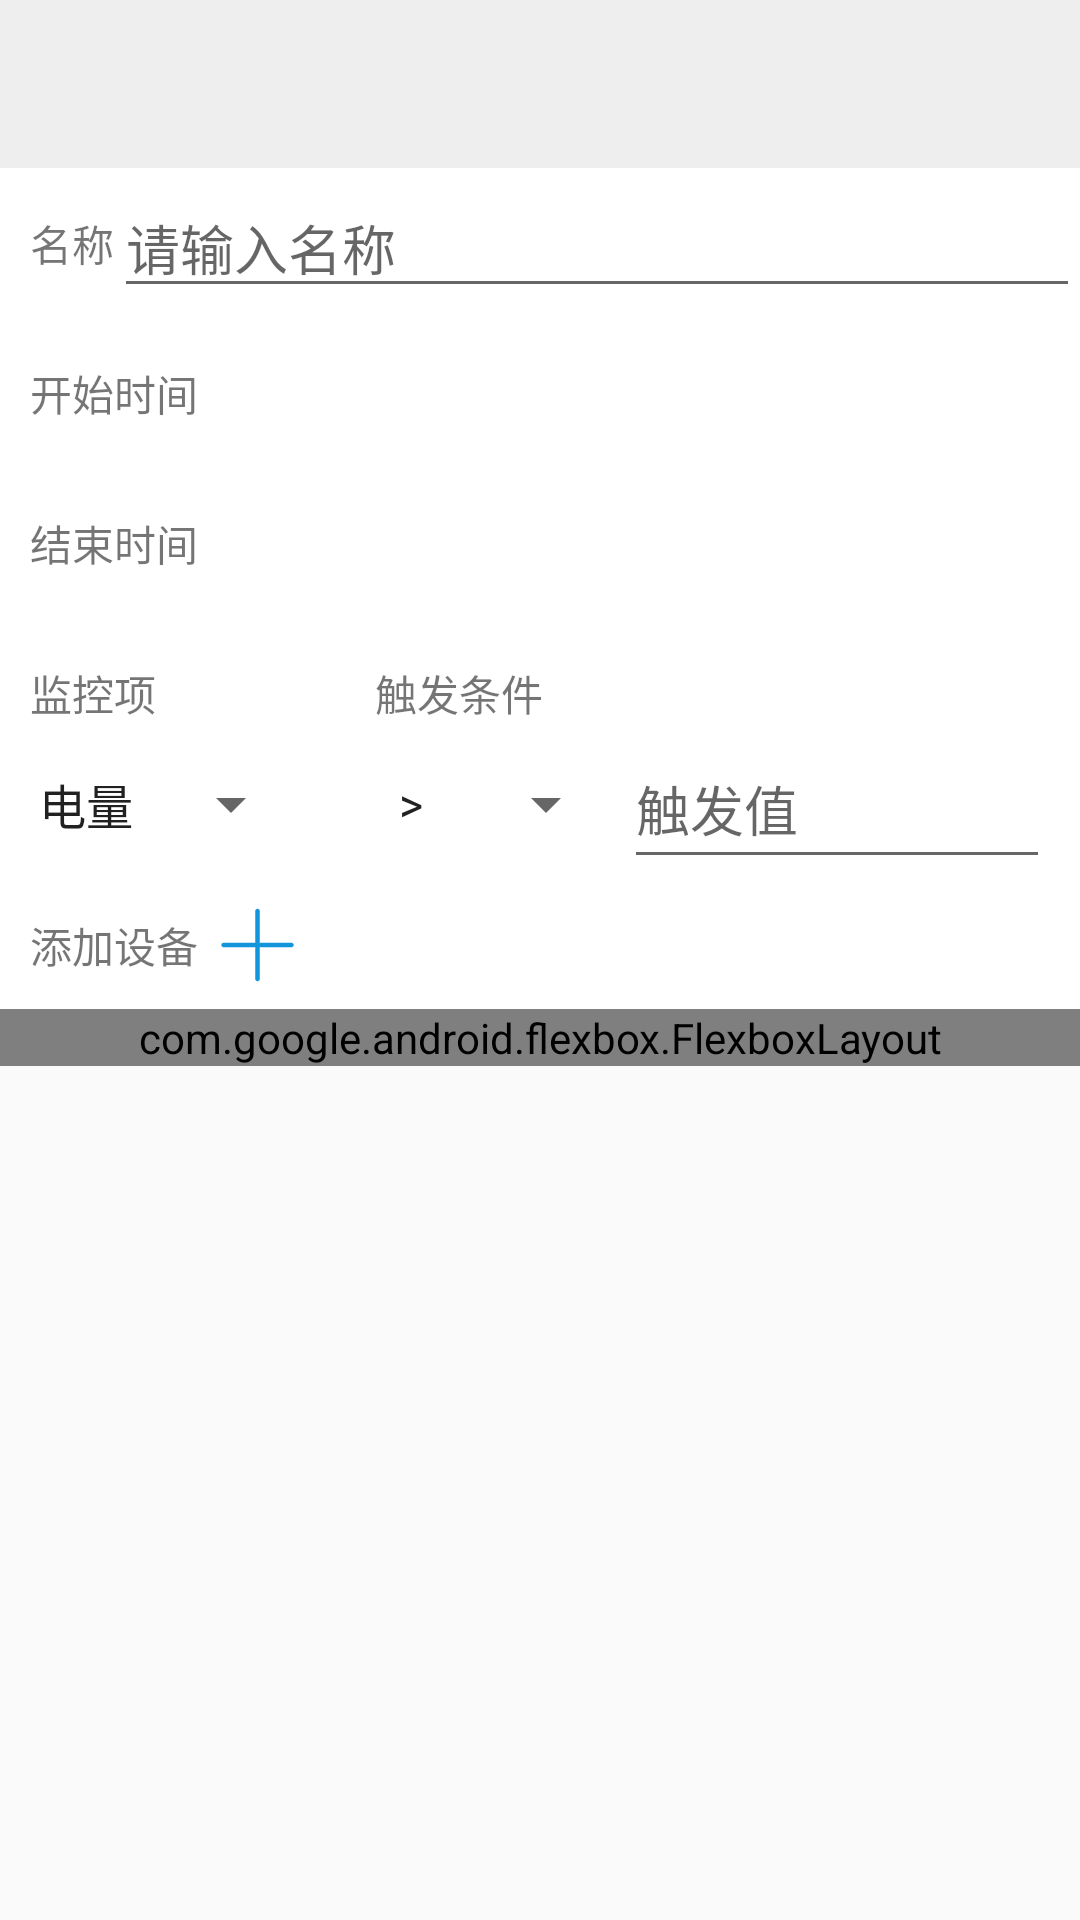

Locate icon controls on the screen. Image size 1080px×1920px, boxes as box(x1, y1, x2, y2).
add: box(221, 908, 294, 982)
